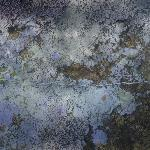dead: (2, 1, 146, 146)
